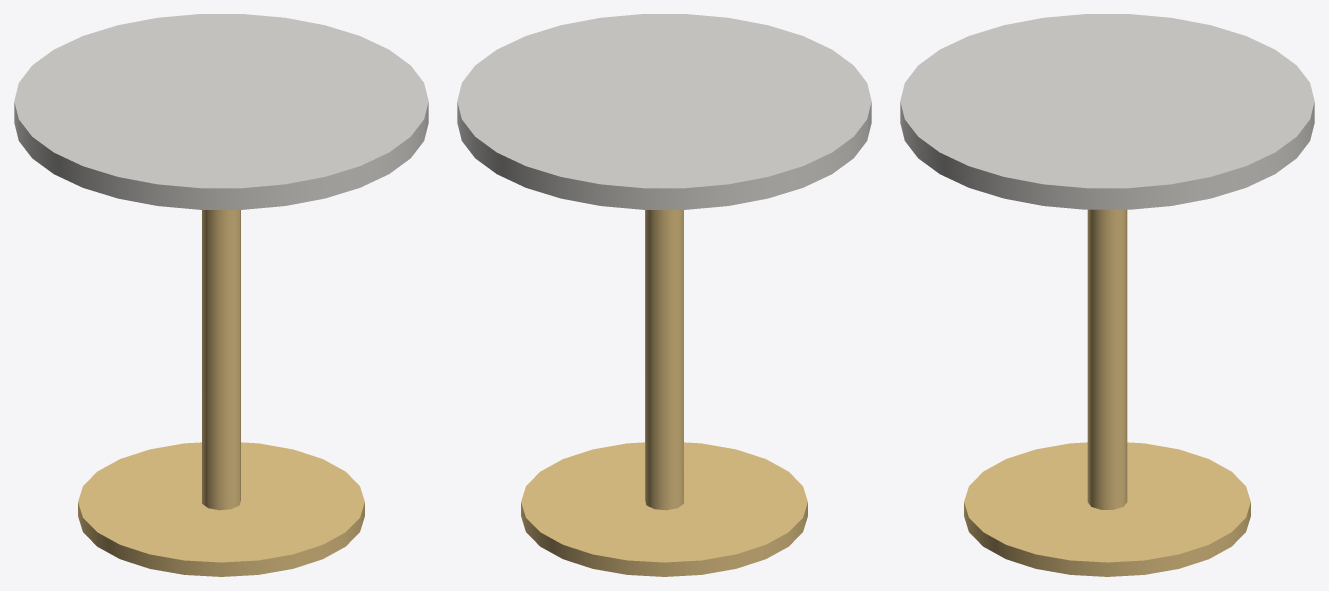
Rendered from fur_side_table.glb.
3 renders of one model, left to right at view 1: azimuth 30°, elevation 25°; view 2: azimuth 150°, elevation 25°; view 3: azimuth 270°, elevation 25°, orthographic.
Visible parts, largest first — view 1: FUR_side_table; view 2: FUR_side_table; view 3: FUR_side_table.
Boxes of the visible parts, box(x1,y1,x2,y2) form: FUR_side_table: box(14, 14, 428, 576); FUR_side_table: box(457, 14, 871, 576); FUR_side_table: box(900, 14, 1314, 576).
Size of the model in its own units: 0.5171 by 0.575 by 0.52.
